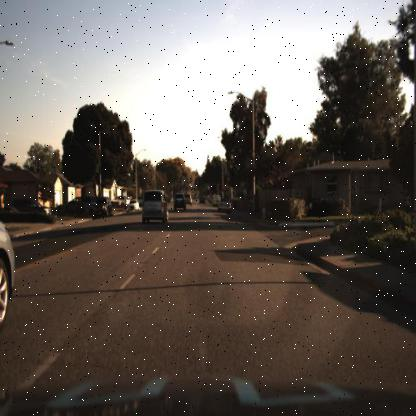car: (0, 216, 15, 334), (140, 186, 170, 228), (92, 193, 111, 221), (171, 188, 188, 214), (216, 194, 233, 217), (111, 194, 130, 209), (127, 198, 140, 214), (198, 194, 207, 203)
